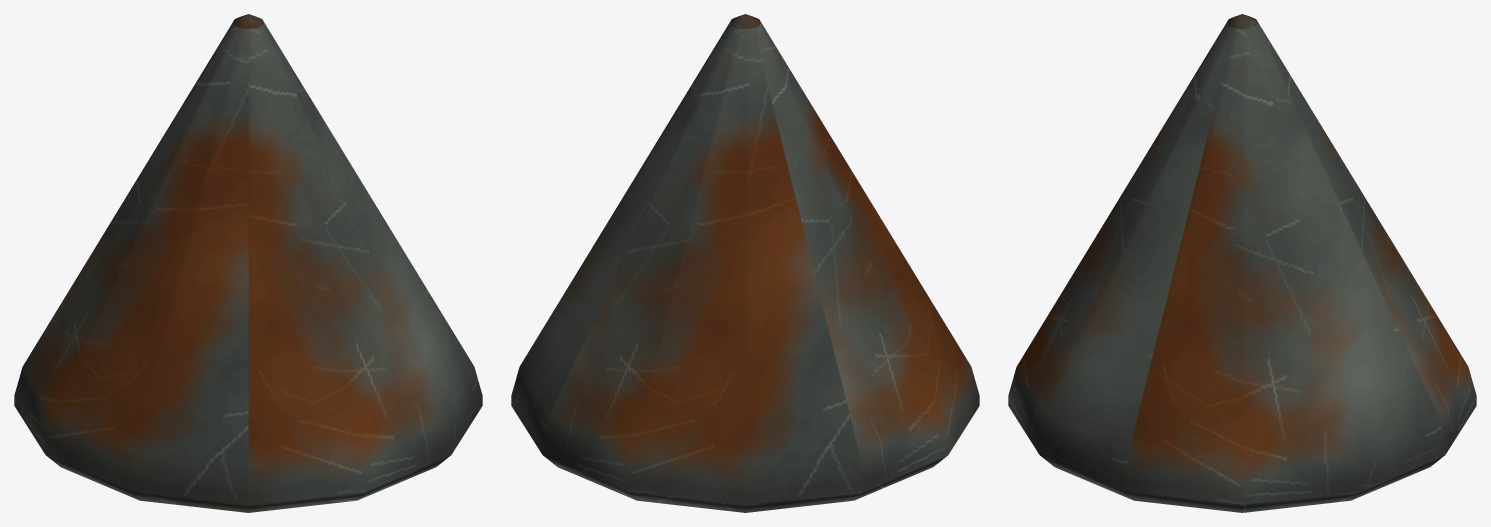
3 views of the same model, side by side, from view 1: azimuth 30°, elevation 25°; view 2: azimuth 150°, elevation 25°; view 3: azimuth 270°, elevation 25° (orthographic).
Parts seen in each view (by area): view 1: R4B_Cone_LOD1; view 2: R4B_Cone_LOD1; view 3: R4B_Cone_LOD1.
Part boxes in pixels (<box>): R4B_Cone_LOD1: <box>14,14,482,512</box>; R4B_Cone_LOD1: <box>511,14,979,512</box>; R4B_Cone_LOD1: <box>1008,14,1476,512</box>.
Bounding box in the file's own units: 0.52 × 0.4987 × 0.52.
1 material, 1 textured.
